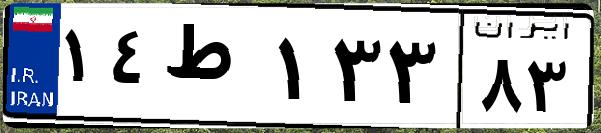1: (270, 28, 330, 110), (57, 26, 110, 100)
3: (385, 28, 445, 110), (330, 28, 385, 110), (525, 38, 570, 115)
4: (110, 28, 158, 98)
8: (475, 38, 525, 113)
ط: (158, 20, 270, 120)
